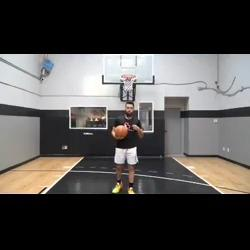BasketBall: (110, 123, 129, 140)
